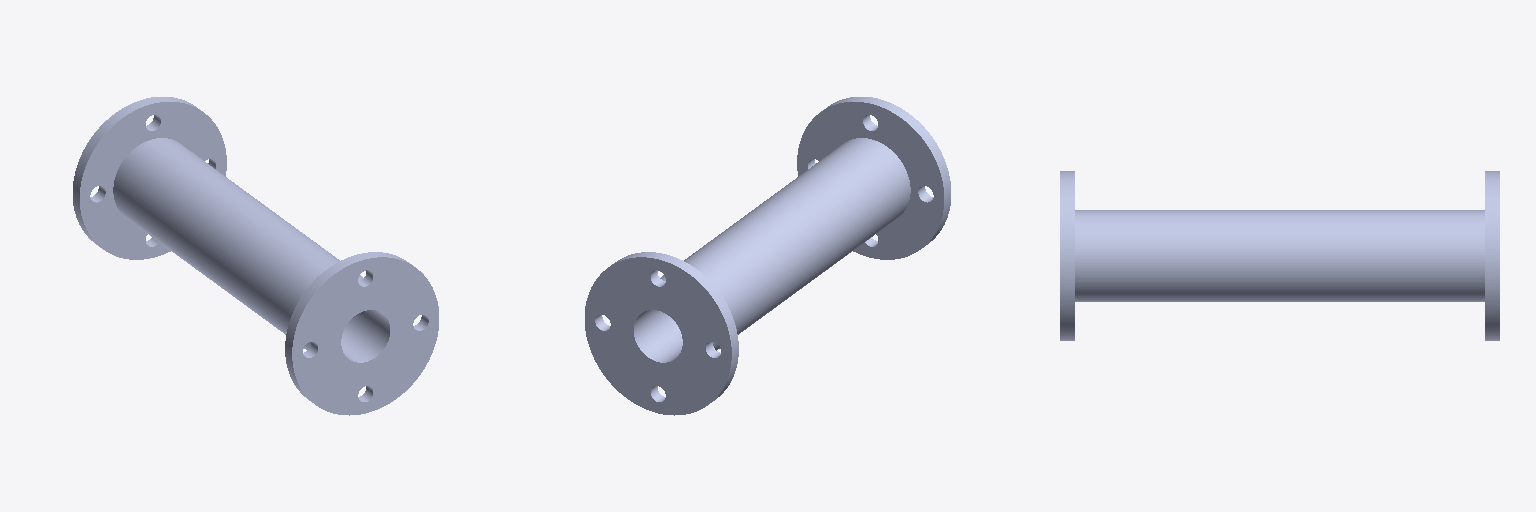
The model's file is cilindro_conector.obj.
The picture shows the model from 3 angles: view 1: azimuth 30°, elevation 25°; view 2: azimuth 150°, elevation 25°; view 3: azimuth 270°, elevation 25°; orthographic projection.
Parts seen in each view (by area): view 1: Cut_Extrude2; view 2: Cut_Extrude2; view 3: Cut_Extrude2.
Part boxes in pixels (left/top/right/bottom): Cut_Extrude2: left=73, top=97, right=438, bottom=415; Cut_Extrude2: left=585, top=97, right=950, bottom=415; Cut_Extrude2: left=1060, top=171, right=1499, bottom=340.
Bounding box in the file's own units: 9.45 × 9.45 × 24.41.